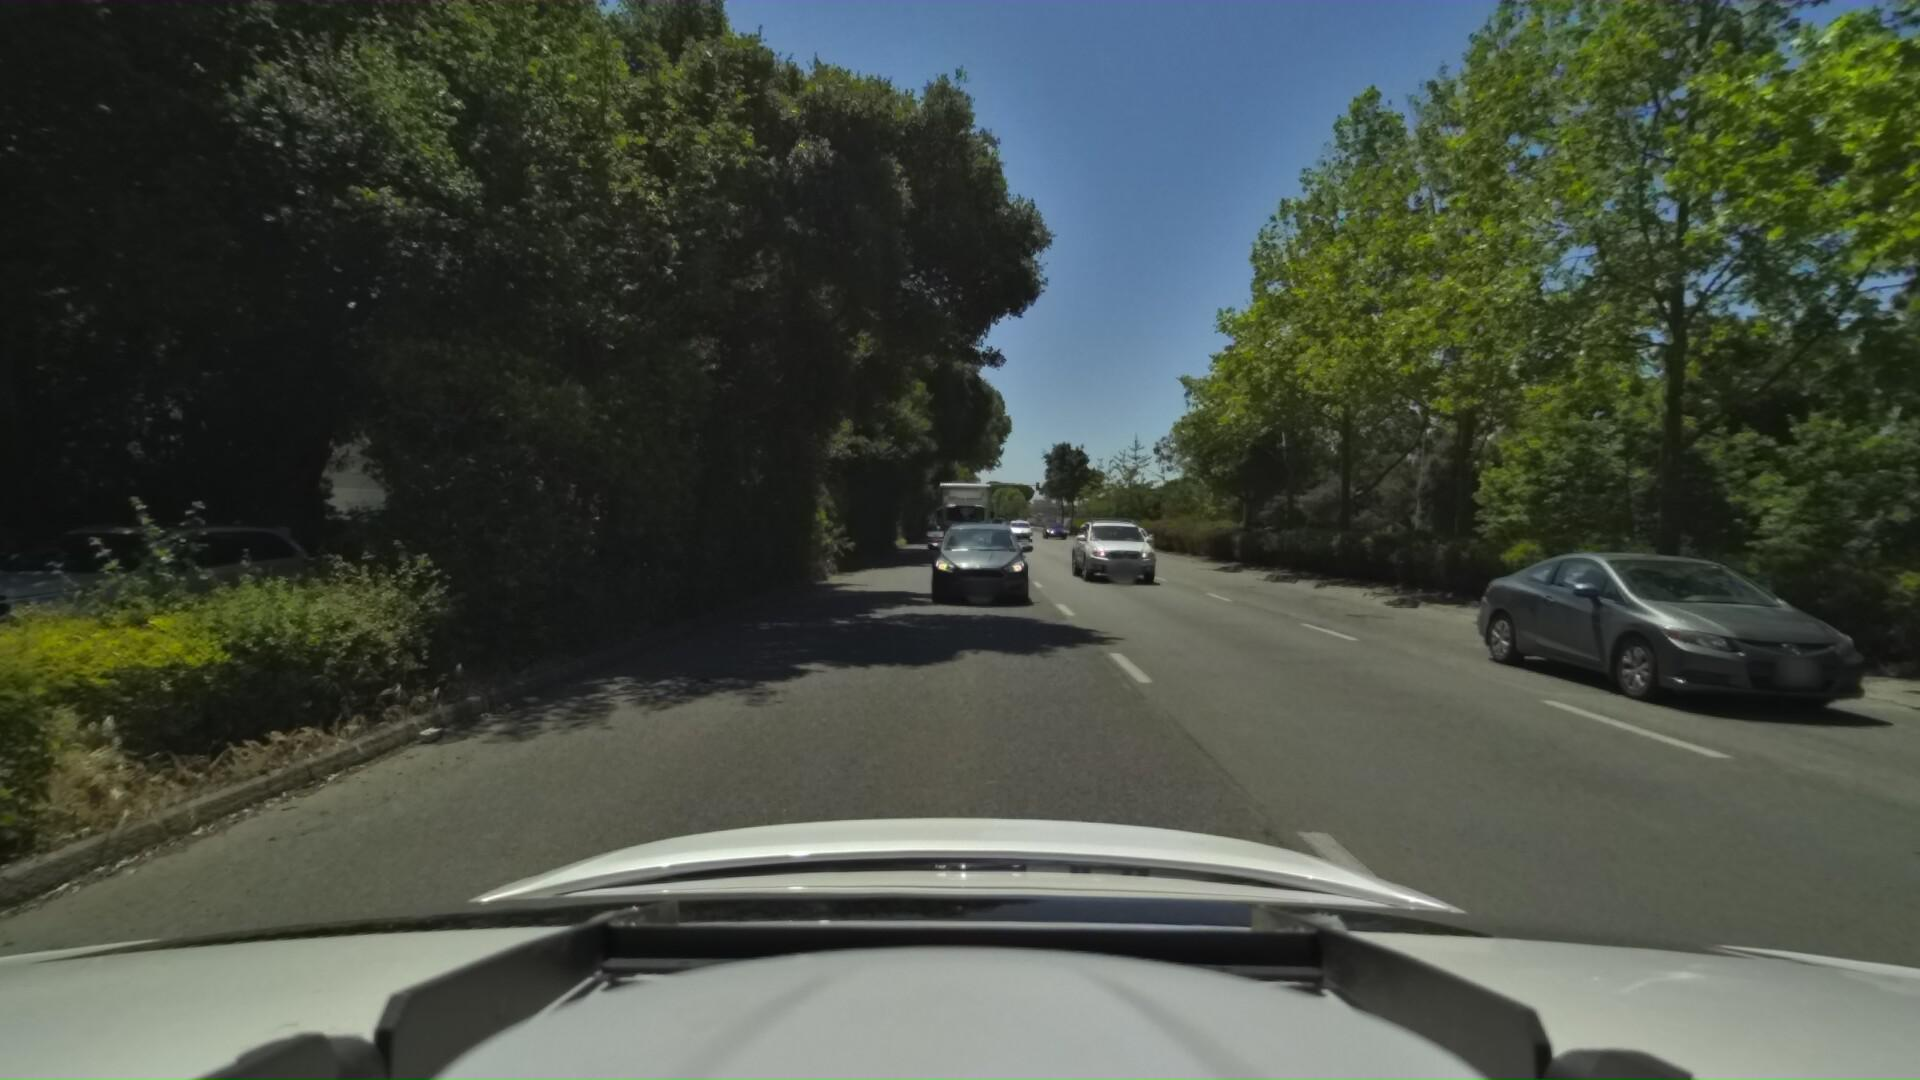car: (0, 501, 357, 702), (1412, 526, 1792, 696), (298, 492, 476, 564), (923, 513, 1030, 605), (1059, 510, 1151, 579), (1106, 516, 1164, 553), (1004, 516, 1034, 542), (1039, 521, 1065, 541)
truck: (928, 465, 993, 541)
